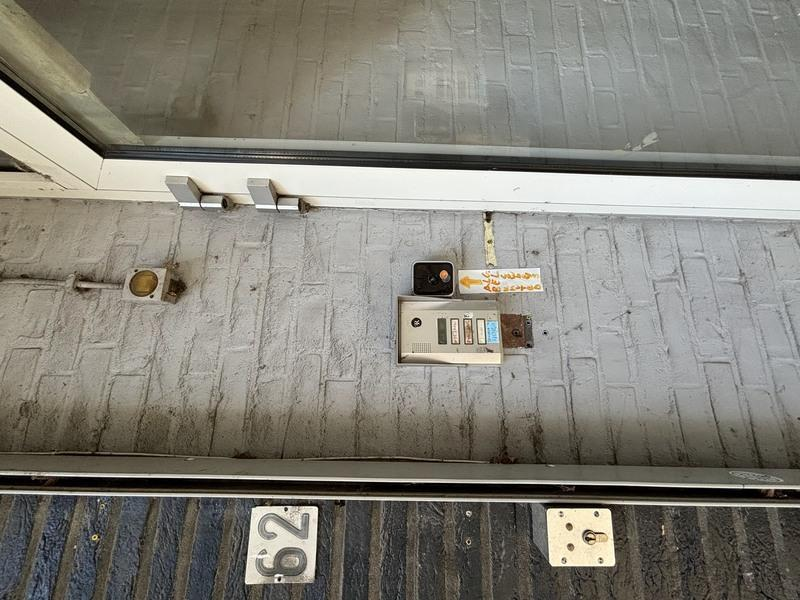doorbell: (299, 400, 348, 458)
